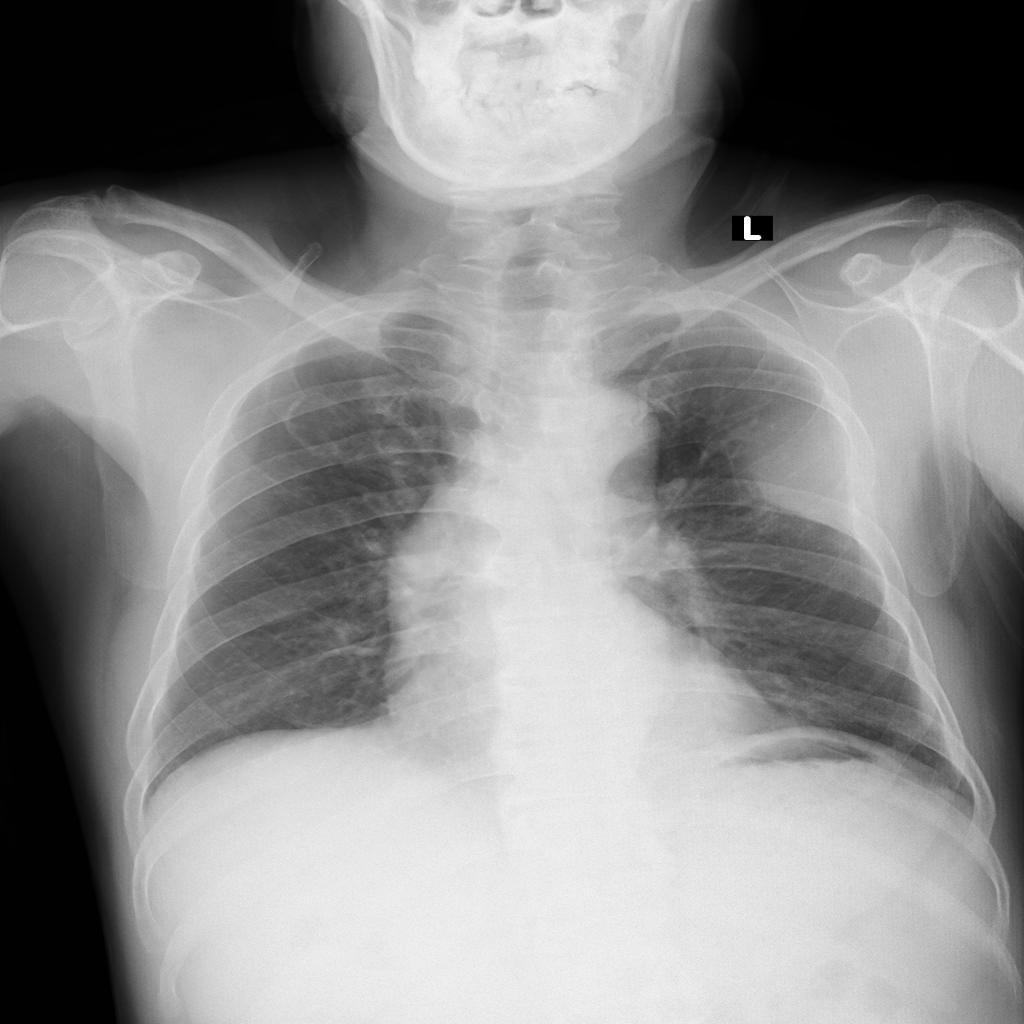Nodule: (718, 402, 876, 548)
